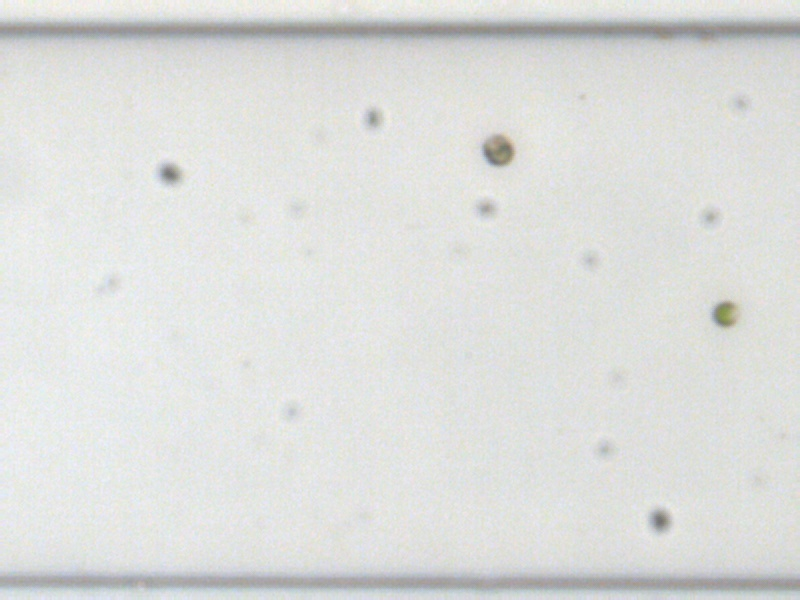Chlorella: (712, 301, 738, 325)
Dunaliella salina: (482, 133, 512, 166)
